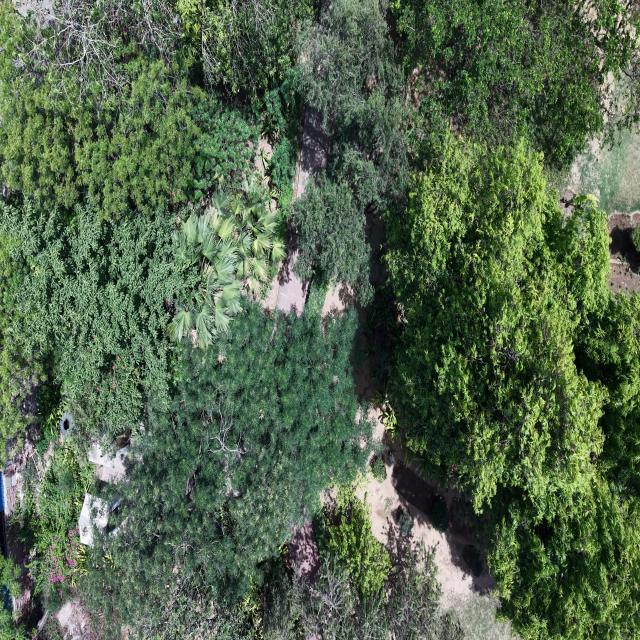DRY_AREA: (356, 407, 510, 639), (357, 406, 510, 639), (357, 407, 510, 639), (357, 443, 510, 639), (357, 444, 510, 639), (358, 455, 510, 639), (269, 228, 309, 314), (608, 212, 639, 293)
VEGETATION_TREE: (0, 0, 639, 639), (294, 2, 639, 637), (0, 2, 307, 459), (1, 6, 295, 442), (386, 138, 639, 638), (15, 305, 369, 637), (294, 0, 639, 301), (84, 305, 369, 625), (386, 138, 610, 511), (0, 180, 283, 433), (0, 0, 261, 217), (0, 9, 257, 218), (2, 0, 310, 141), (0, 201, 182, 434), (390, 0, 639, 167), (293, 0, 410, 304), (134, 537, 462, 639), (263, 486, 461, 639), (487, 459, 639, 639), (297, 0, 409, 213), (169, 175, 284, 348), (263, 548, 461, 639), (20, 0, 183, 93), (10, 439, 94, 605), (575, 296, 639, 500), (174, 0, 310, 95), (549, 130, 639, 249), (292, 175, 372, 303), (321, 486, 390, 600), (0, 313, 43, 463), (131, 590, 261, 639), (261, 67, 302, 211), (358, 278, 402, 389), (36, 365, 65, 454), (0, 556, 25, 639), (430, 498, 449, 532), (40, 616, 62, 639), (369, 455, 385, 482), (397, 511, 412, 536), (631, 226, 639, 252)
